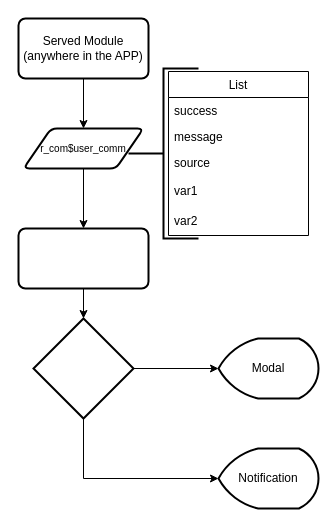
Image size: 336x526. Some labels were removed from this diagram. Each missing label, with the box of its shape:
ods_communication.R: (17, 227, 149, 289)
User Profile: (32, 317, 134, 419)
